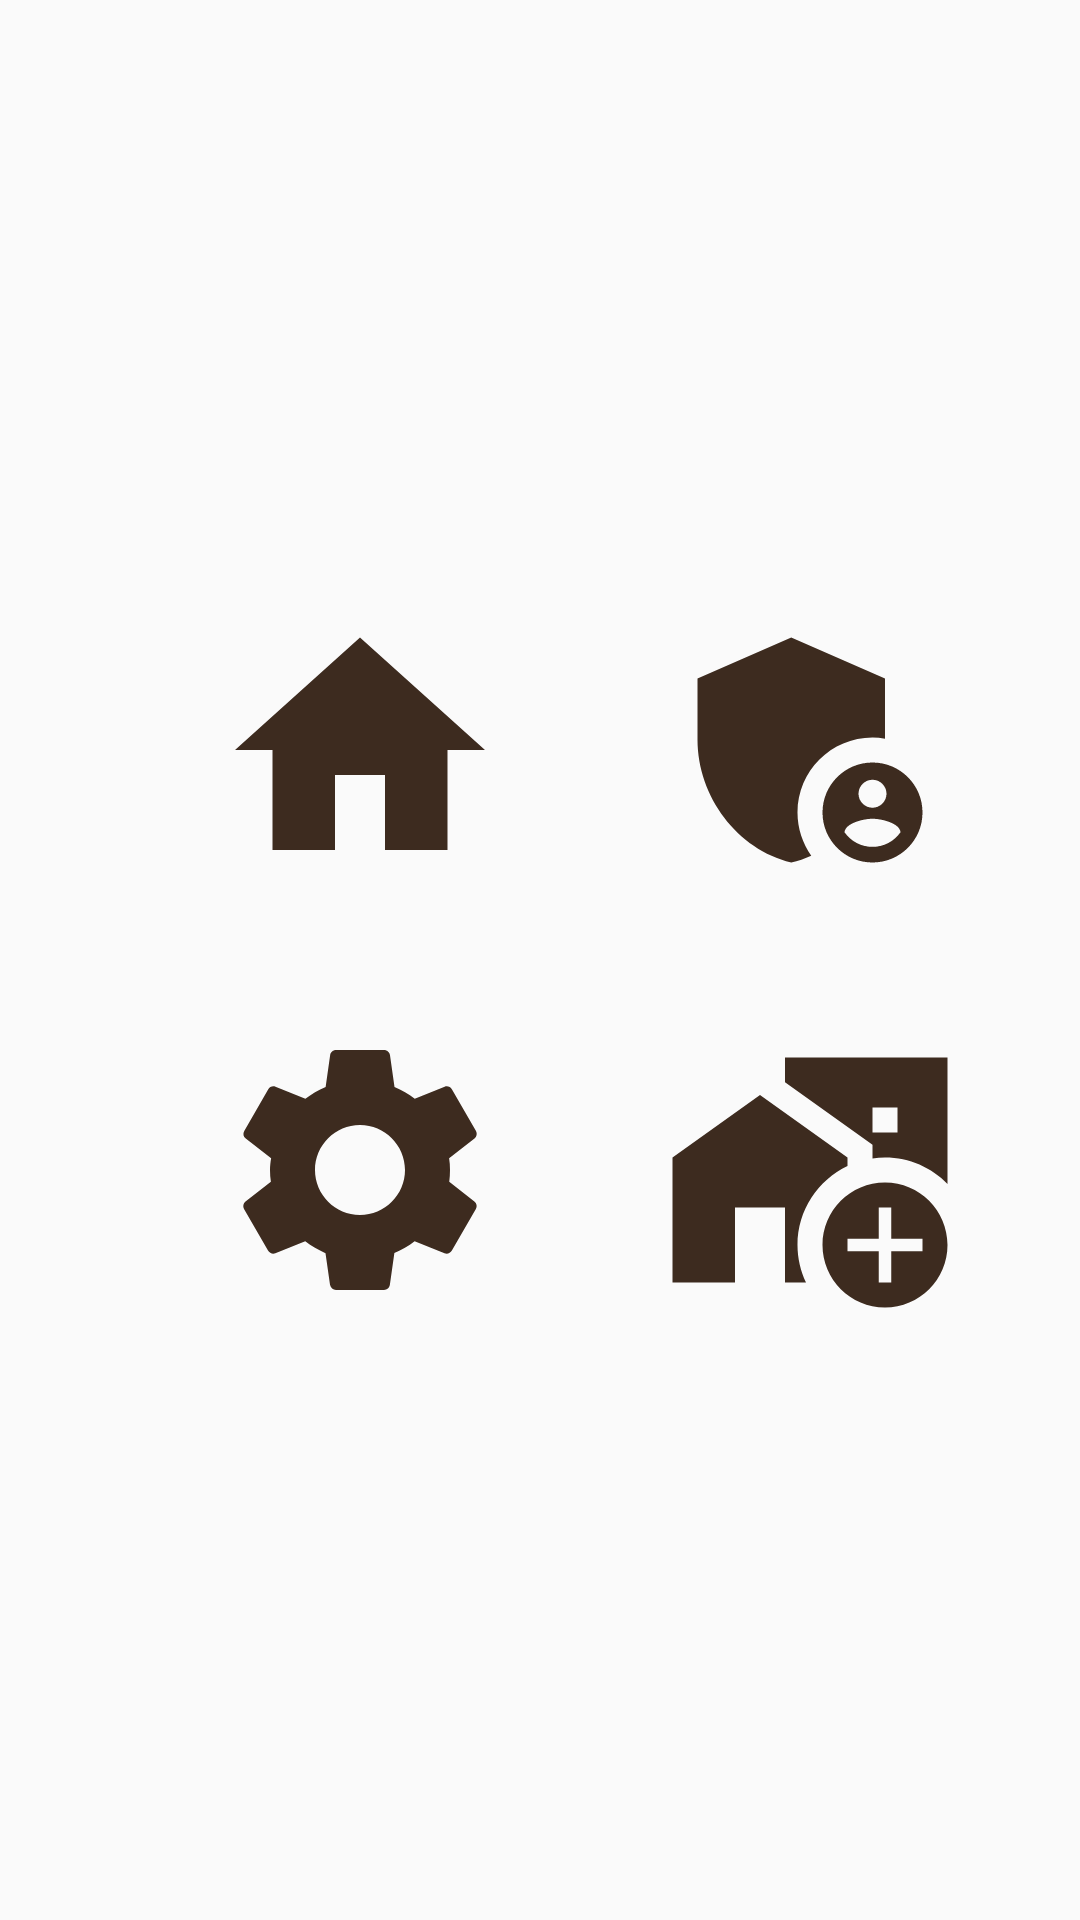

Icons on this 1080w x 1920h Android screen, each with the point to tap as (x=x, y=y):
add home work: (x=810, y=1182)
admin panel settings: (x=810, y=750)
home: (x=360, y=743)
settings: (x=360, y=1170)
